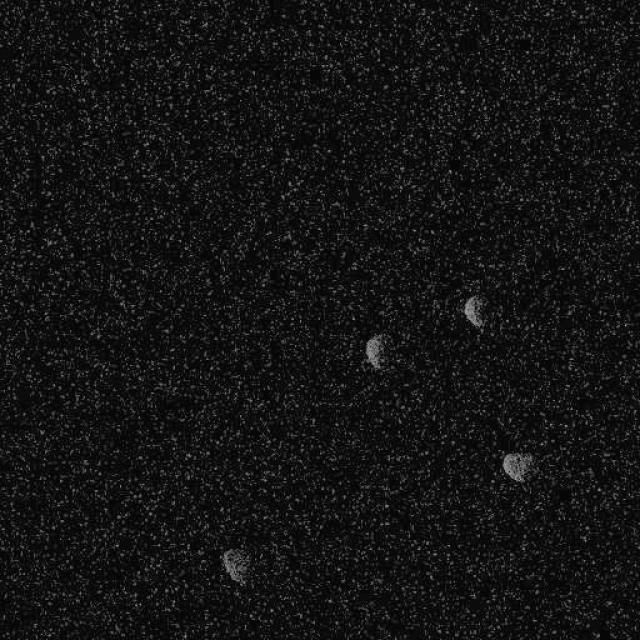D2: (218, 546, 252, 586), (502, 450, 536, 484), (363, 332, 388, 368), (462, 294, 487, 328)
